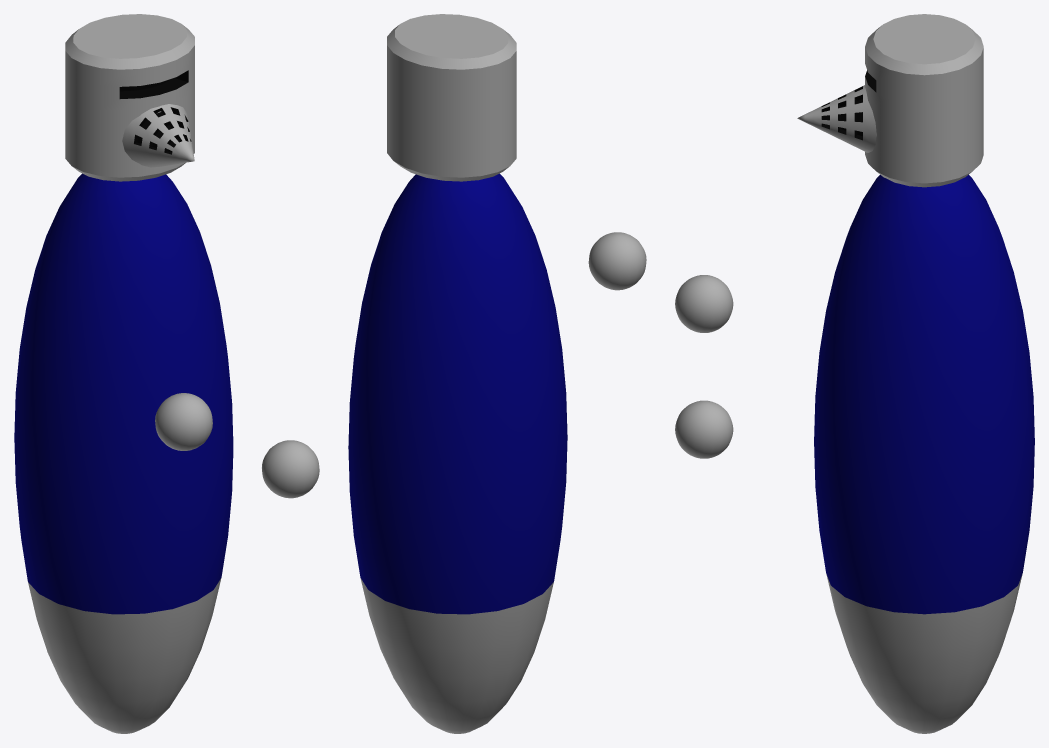
The model's file is blue_player.fbx.
3 views of the same model, side by side, from view 1: azimuth 30°, elevation 25°; view 2: azimuth 150°, elevation 25°; view 3: azimuth 270°, elevation 25° (orthographic).
Visible parts, largest first — view 1: player01; view 2: player01; view 3: player01.
Part boxes in pixels (box(x1,y1,x2,y2)): player01: box(14, 14, 319, 733); player01: box(348, 14, 646, 733); player01: box(675, 14, 1034, 733).
Bounding box in the file's own units: 42.9 × 149 × 69.88.
